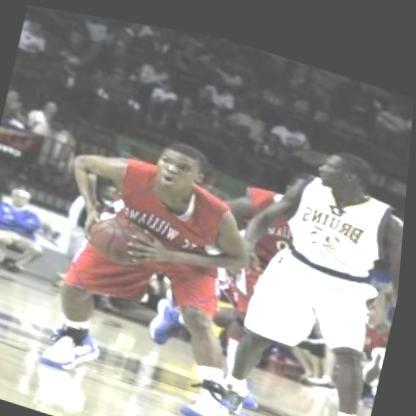basketball: (84, 196, 164, 269)
